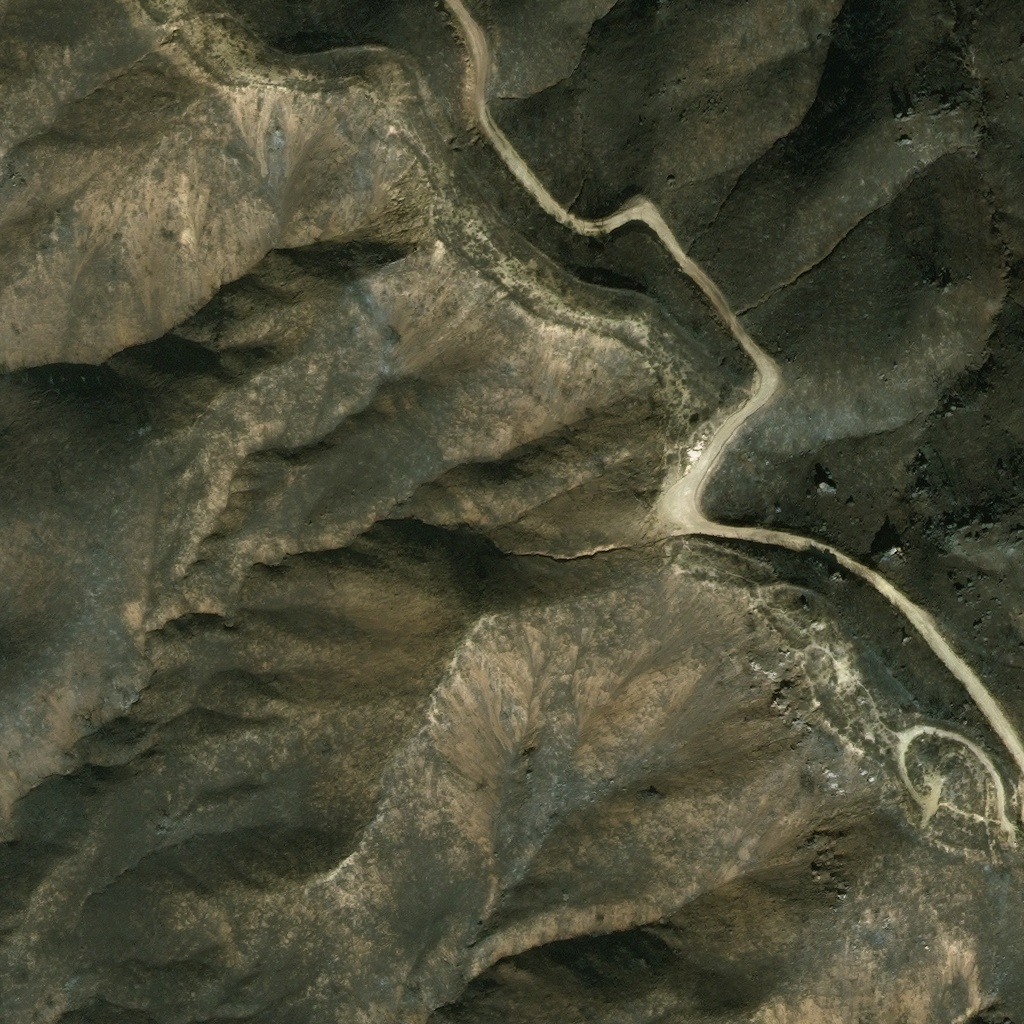3 destroyed: (890, 544, 904, 559)
